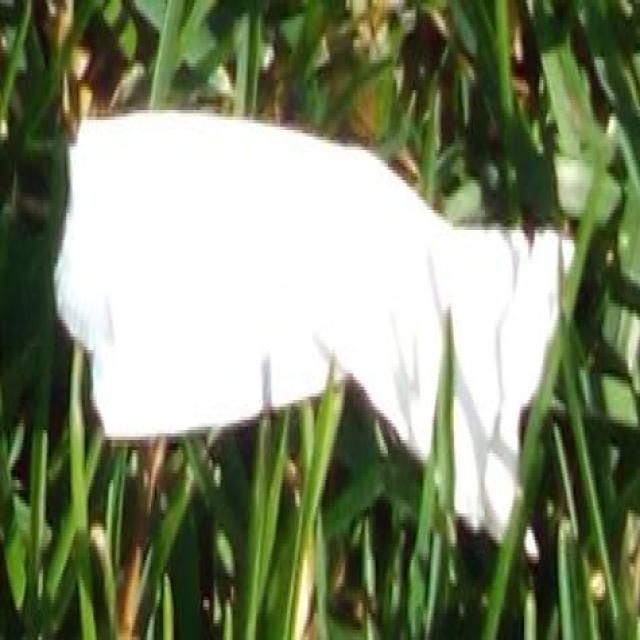litter: (55, 107, 578, 543)
